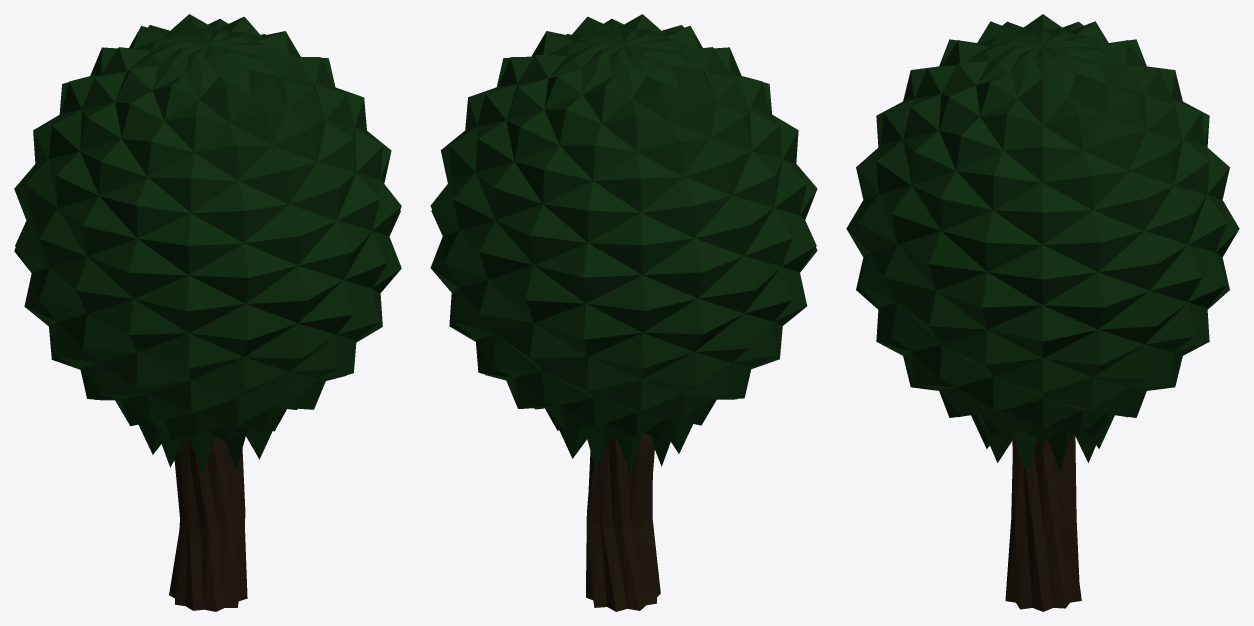
File: NormalTree_DarkGreen.fbx
3 renders of one model, left to right at view 1: azimuth 30°, elevation 25°; view 2: azimuth 150°, elevation 25°; view 3: azimuth 270°, elevation 25°, orthographic.
Visible parts, largest first — view 1: pSphere1, pCylinder1; view 2: pSphere1, pCylinder1; view 3: pSphere1, pCylinder1.
Boxes of the visible parts, x1,y1,x2,y2 form: pSphere1: (14, 14, 401, 473); pCylinder1: (169, 436, 247, 611); pSphere1: (430, 14, 817, 472); pCylinder1: (586, 432, 660, 611); pSphere1: (846, 14, 1239, 471); pCylinder1: (1005, 433, 1081, 611).
Size of the model in its own units: 11.59 by 18.17 by 11.73.
